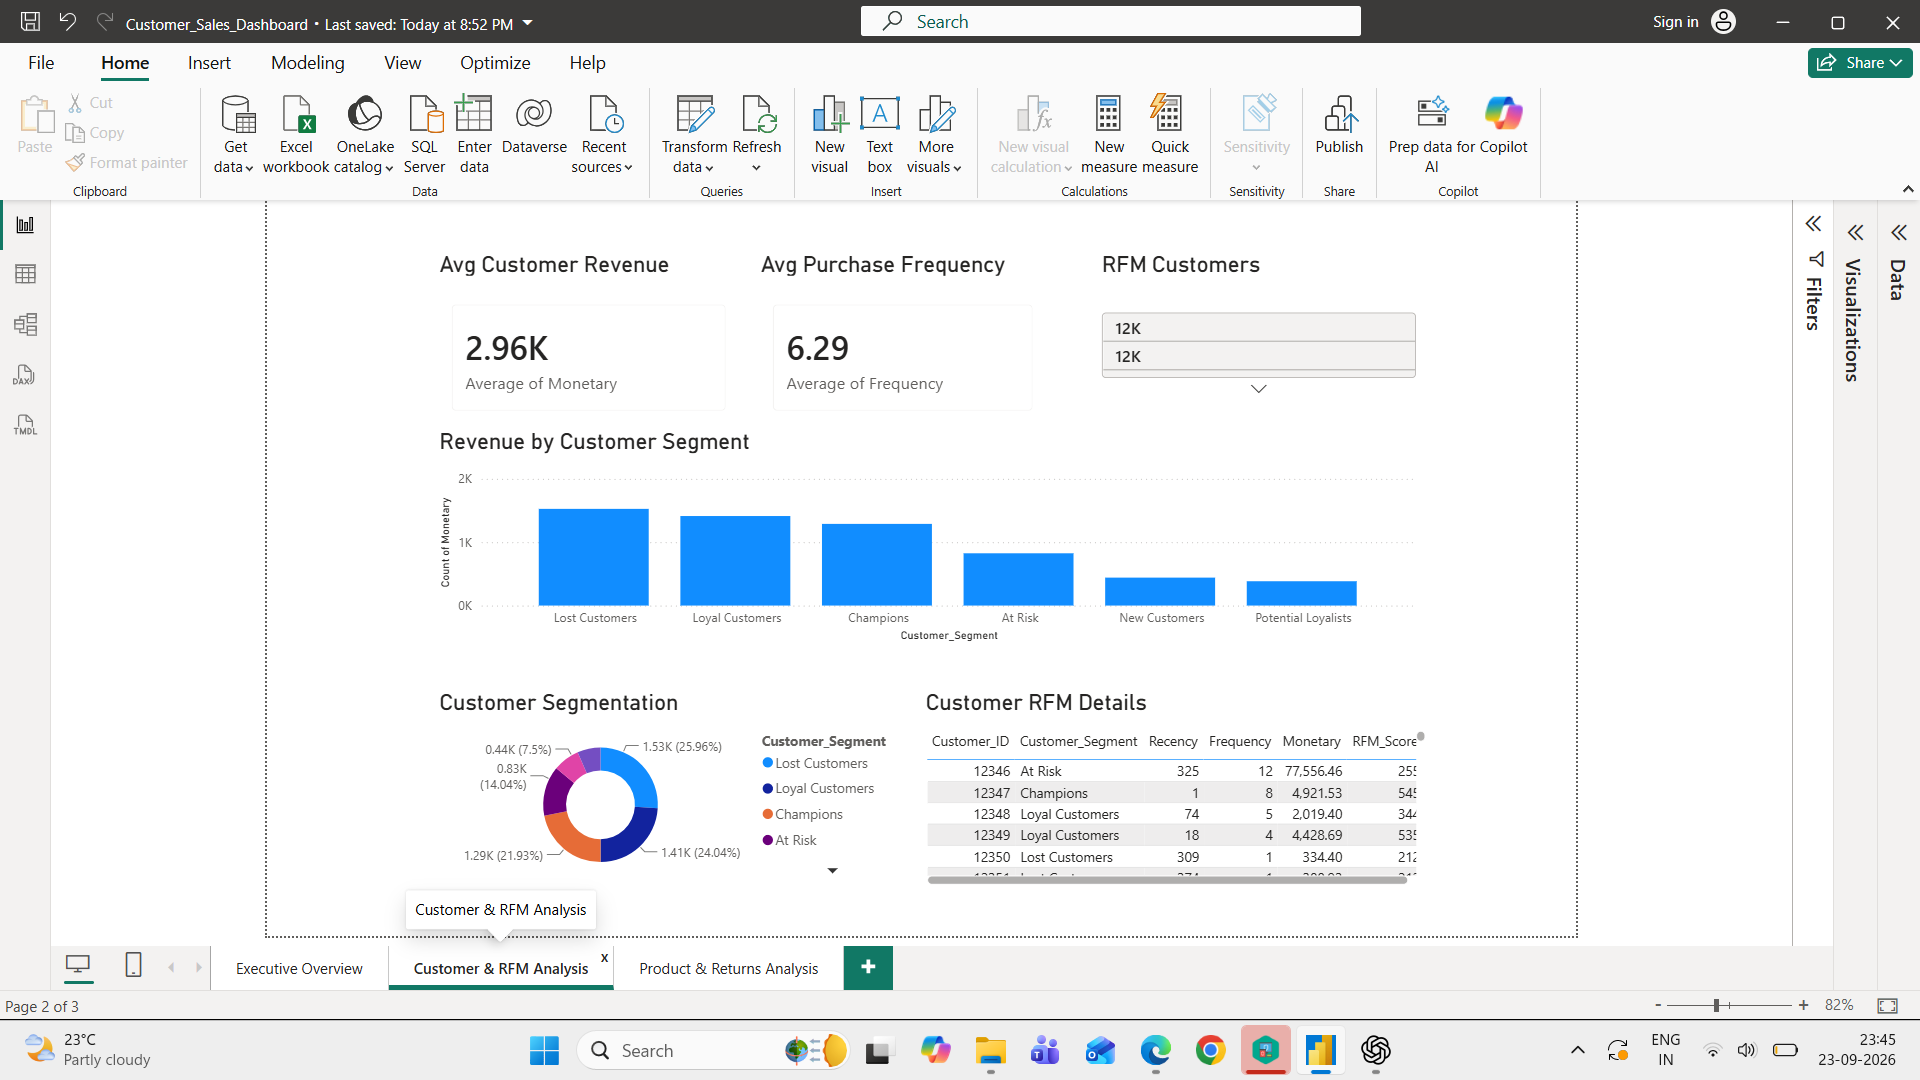

The page's visual inventory and layout, read from the dashboard file:
{"tool":"powerbi","page":{"name":"Customer & RFM Analysis","canvas":[1280,720],"ordinal":1},"visuals":[{"type":"donutChart","title":"Customer Segmentation","fields":{"Category":["customer_rfm.Customer_Segment"],"Y":["CountNonNull(customer_rfm.Customer_ID)"]},"box":[163.9,479.4,462.2,189.5],"z":0},{"type":"clusteredColumnChart","title":"Revenue by Customer Segment","fields":{"Category":["customer_rfm.Customer_Segment"],"Y":["CountNonNull(customer_rfm.Monetary)"]},"box":[163.9,223.8,966,212.8],"z":1000},{"type":"tableEx","title":"Customer RFM Details","fields":{"Values":["customer_rfm.Customer_ID","customer_rfm.Customer_Segment","customer_rfm.Recency","customer_rfm.Frequency","customer_rfm.Monetary","customer_rfm.RFM_Score"]},"box":[639.5,479.4,498.9,195.7],"z":2000},{"type":"cardVisual","title":"RFM Customers","fields":{"Rows":["customer_rfm.Customer_ID"]},"box":[812,50.1,317.9,149.2],"z":3000},{"type":"cardVisual","title":"Avg Customer Revenue","fields":{"Data":["Avg(customer_rfm.Monetary)"]},"box":[163.9,50.1,302,173.6],"z":4000},{"type":"cardVisual","title":"Avg Purchase Frequency","fields":{"Data":["Avg(customer_rfm.Frequency)"]},"box":[478.1,50.1,288.6,173.6],"z":5000}]}

Visuals, with their boxes on the page's 1280x720 design canvas (x1, y1, x2, y2). These are canvas units, not pixel positions in the 1920x1080 screenshot, which may show the page scaled, cropped or inside an application window:
"Customer Segmentation" donutChart: l=164, t=479, r=626, b=669
"Revenue by Customer Segment" clusteredColumnChart: l=164, t=224, r=1130, b=437
"Customer RFM Details" tableEx: l=640, t=479, r=1138, b=675
"RFM Customers" cardVisual: l=812, t=50, r=1130, b=199
"Avg Customer Revenue" cardVisual: l=164, t=50, r=466, b=224
"Avg Purchase Frequency" cardVisual: l=478, t=50, r=767, b=224
